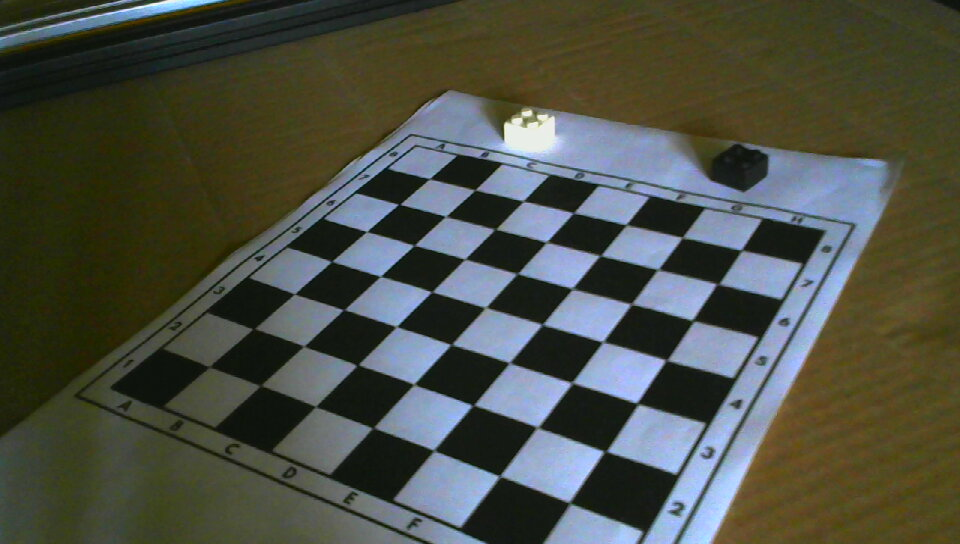bp: (710, 143, 768, 193)
wp: (501, 106, 556, 150)
